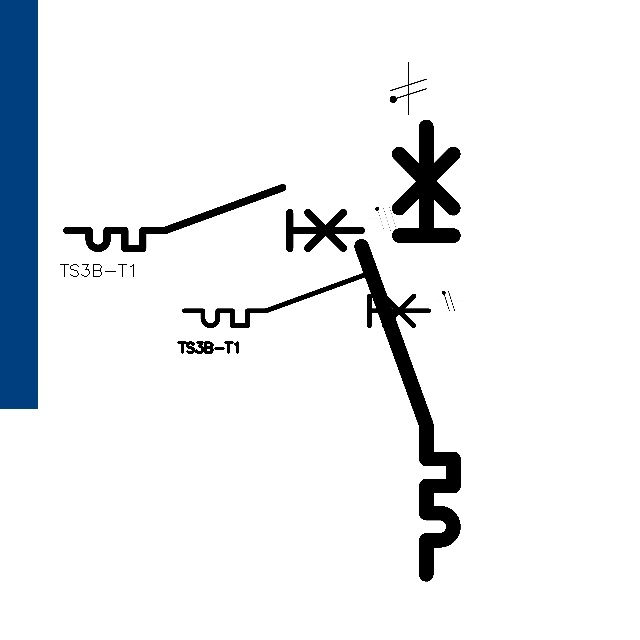interruptor_termomagnetico: (350, 115, 465, 586), (59, 180, 369, 256), (178, 269, 435, 332)
